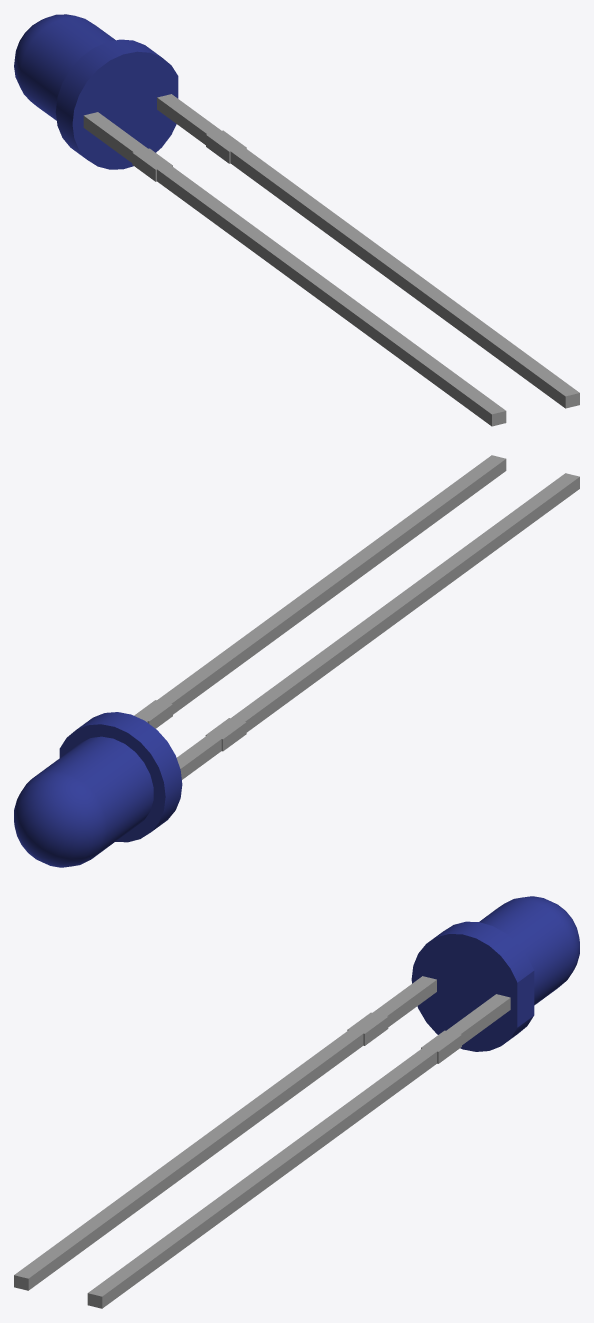
The model's file is 3MMLED-BLUE.obj.
The picture shows the model from 3 angles, top to bottom: view 1: azimuth 30°, elevation 25°; view 2: azimuth 150°, elevation 25°; view 3: azimuth 330°, elevation 25°; orthographic projection.
Visible parts, largest first — view 1: Solid1; view 2: Solid1; view 3: Solid1.
Boxes of the visible parts, x1,y1,x2,y2 form: Solid1: [14, 14, 579, 426]; Solid1: [14, 455, 579, 867]; Solid1: [14, 896, 579, 1308].
Bounding box in the file's own units: 3.65 × 3.79 × 29.7.
